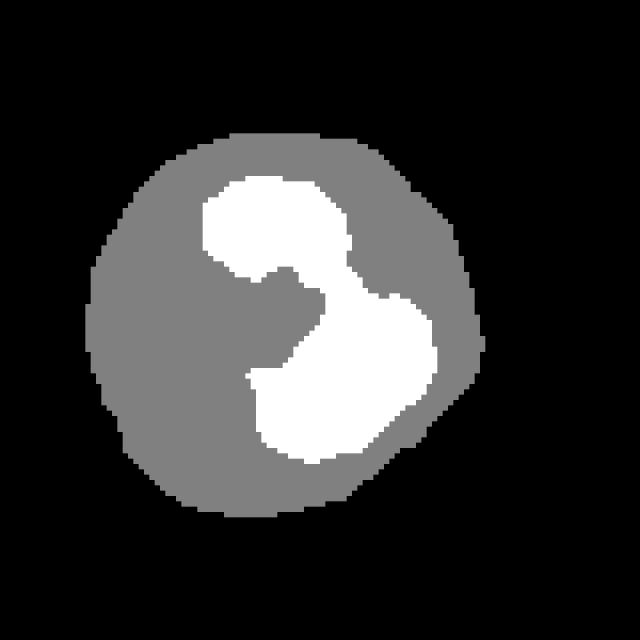WBC: (70, 106, 502, 554)
